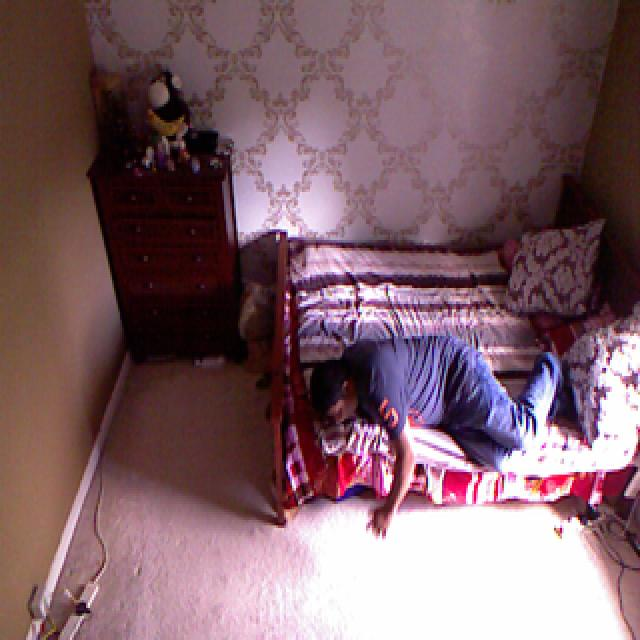lying: (298, 334, 578, 539)
